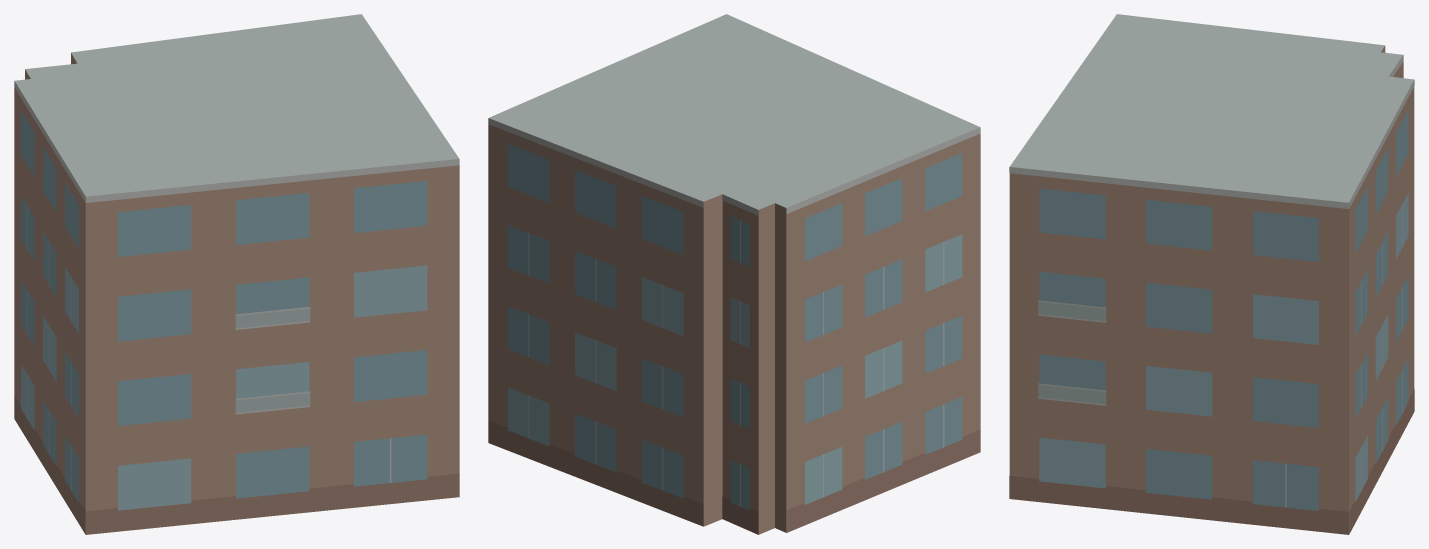
Rendered from survey-upis-33037755.glb.
The picture shows the model from 3 angles, left to right: view 1: azimuth 30°, elevation 25°; view 2: azimuth 150°, elevation 25°; view 3: azimuth 270°, elevation 25°; orthographic projection. The views are drawn at different scales.
Parts seen in each view (by area): view 1: survey-upis-33037755.tmp; view 2: survey-upis-33037755.tmp; view 3: survey-upis-33037755.tmp.
Part boxes in pixels (bbox=[...]): survey-upis-33037755.tmp: bbox=[14, 14, 459, 534]; survey-upis-33037755.tmp: bbox=[488, 14, 980, 534]; survey-upis-33037755.tmp: bbox=[1009, 14, 1414, 534].
Bounding box in the file's own units: 15.74 × 12.9 × 14.27.
